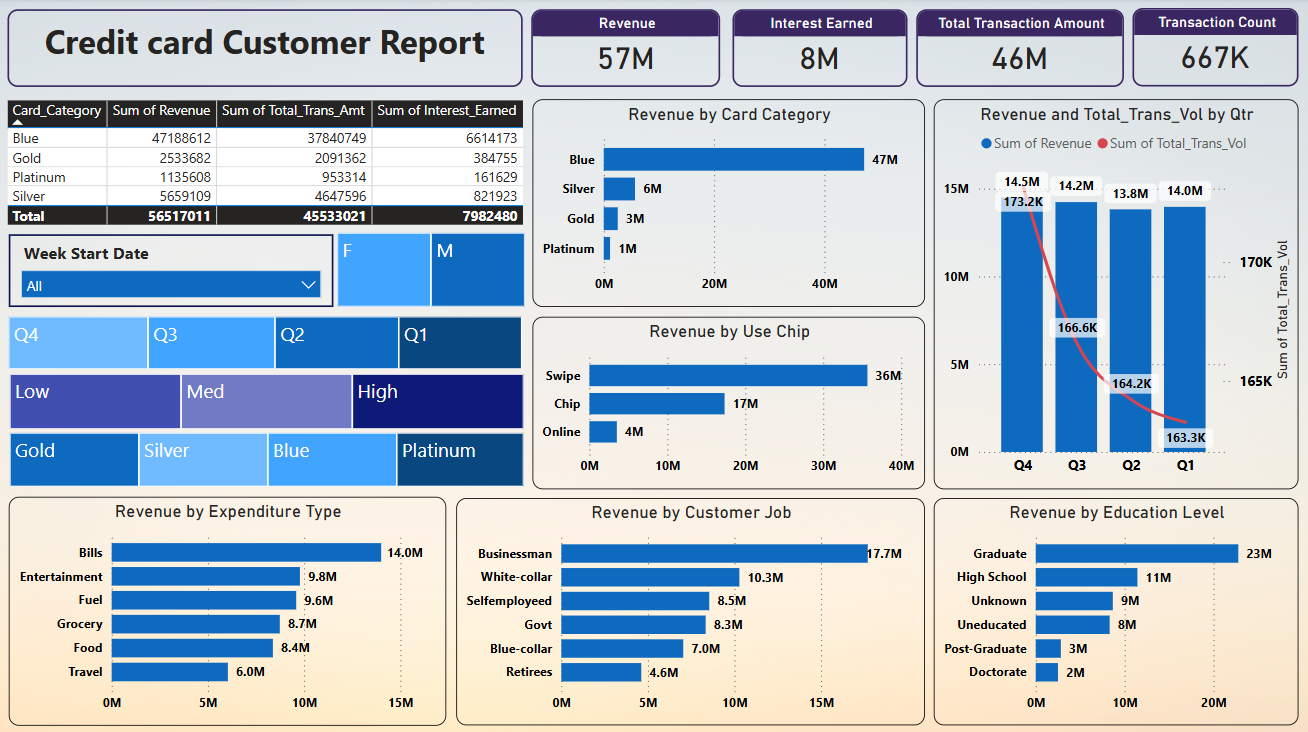

This screenshot's page, from the dashboard's own definition file:
{"tool":"powerbi","page":{"name":"Credit Card dashboard","canvas":[1280,720],"ordinal":0},"visuals":[{"type":"textbox","box":[7.3,11,503.8,75.8],"z":0},{"type":"lineClusteredColumnComboChart","title":" Revenue and  Total_Trans_Vol by Qtr","fields":{"Category":["Credit_card_detail.Qtr"],"Y":["Sum(Credit_card_detail.Revenue)"],"Y2":["Sum(Credit_card_detail.Total_Trans_Vol)"]},"box":[913.5,99,357.1,381.5],"z":1000},{"type":"barChart","title":" Revenue by Expenditure Type","fields":{"Y":["Sum(Credit_card_detail.Revenue)"],"Category":["Credit_card_detail.Exp Type"]},"box":[8.2,488.5,503.6,223.7],"z":2000},{"type":"barChart","title":"Revenue by Education Level","fields":{"Y":["Sum(Credit_card_detail.Revenue)"],"Category":["Customer_detail.Education_Level"]},"box":[913.5,489.1,357.1,222.6],"z":3000},{"type":"barChart","title":" Revenue by Customer Job","fields":{"Y":["Sum(Credit_card_detail.Revenue)"],"Category":["Customer_detail.Customer_Job"]},"box":[520.9,489.1,384,222.6],"z":4000},{"type":"barChart","title":"Revenue by Card Category","fields":{"Y":["Sum(Credit_card_detail.Revenue)"],"Category":["Credit_card_detail.Card_Category"]},"box":[520.9,99,384,203],"z":5000},{"type":"clusteredBarChart","title":"Revenue by Use Chip","fields":{"Category":["Credit_card_detail.Use Chip"],"Y":["Sum(Credit_card_detail.Revenue)"]},"box":[520.9,311.8,384,168.8],"z":6000},{"type":"tableEx","fields":{"Values":["Credit_card_detail.Card_Category","Sum(Credit_card_detail.Revenue)","Sum(Credit_card_detail.Total_Trans_Amt)","Sum(Credit_card_detail.Interest_Earned)"]},"box":[1.2,95.4,517.3,141.8],"z":7000},{"type":"card","title":"Revenue","fields":{"Values":["Sum(Credit_card_detail.Revenue)"]},"box":[519.7,11,184.6,75.8],"z":8000},{"type":"slicer","fields":{"Values":["Credit_card_detail.Week_Start_Date"]},"box":[7.3,229.9,270.2,72.1],"z":9000},{"type":"card","title":"Interest Earned","fields":{"Values":["Sum(Credit_card_detail.Interest_Earned)"]},"box":[716.6,11,171.2,75.8],"z":10000},{"type":"card","title":"Total Transaction Amount","fields":{"Values":["Sum(Credit_card_detail.Total_Trans_Amt)"]},"box":[896.3,11,203,75.8],"z":11000},{"type":"card","title":"Transaction Count","fields":{"Values":["Sum(Credit_card_detail.Total_Trans_Vol)"]},"box":[1107.9,9.8,162.6,77],"z":12000},{"type":"treemap","fields":{"Group":["Credit_card_detail.Qtr"],"Values":["Avg(Credit_card_detail.Client_Num)"]},"box":[1.2,306.9,517.3,61.1],"z":13000},{"type":"treemap","fields":{"Values":["Avg(Credit_card_detail.Client_Num)"],"Group":["Customer_detail.Income Group"]},"box":[2.4,363.2,516,63.6],"z":14000},{"type":"treemap","fields":{"Values":["Avg(Credit_card_detail.Client_Num)"],"Group":["Credit_card_detail.Card_Category"]},"box":[2.4,420.7,516,62.4],"z":15000},{"type":"treemap","fields":{"Values":["Avg(Credit_card_detail.Client_Num)"],"Group":["Customer_detail.Gender"]},"box":[283.7,225,233.6,81.9],"z":16000}]}

Visuals, with their boxes in screenshot pixels (x1, y1, x2, y2), scaled from the page's 1280x720 canvas onto the 1308x732 screenshot:
textbox: <region>7, 11, 522, 88</region>
" Revenue and  Total_Trans_Vol by Qtr" lineClusteredColumnComboChart: <region>933, 101, 1298, 489</region>
" Revenue by Expenditure Type" barChart: <region>8, 497, 523, 724</region>
"Revenue by Education Level" barChart: <region>933, 497, 1298, 724</region>
" Revenue by Customer Job" barChart: <region>532, 497, 925, 724</region>
"Revenue by Card Category" barChart: <region>532, 101, 925, 307</region>
"Revenue by Use Chip" clusteredBarChart: <region>532, 317, 925, 489</region>
tableEx - Credit_card_detail.Card_Category x Sum(Credit_card_detail.Revenue): <region>1, 97, 530, 241</region>
"Revenue" card: <region>531, 11, 720, 88</region>
slicer - Credit_card_detail.Week_Start_Date: <region>7, 234, 284, 307</region>
"Interest Earned" card: <region>732, 11, 907, 88</region>
"Total Transaction Amount" card: <region>916, 11, 1123, 88</region>
"Transaction Count" card: <region>1132, 10, 1298, 88</region>
treemap - Credit_card_detail.Qtr x Avg(Credit_card_detail.Client_Num): <region>1, 312, 530, 374</region>
treemap - Avg(Credit_card_detail.Client_Num) x Customer_detail.Income Group: <region>2, 369, 530, 434</region>
treemap - Avg(Credit_card_detail.Client_Num) x Credit_card_detail.Card_Category: <region>2, 428, 530, 491</region>
treemap - Avg(Credit_card_detail.Client_Num) x Customer_detail.Gender: <region>290, 229, 529, 312</region>
